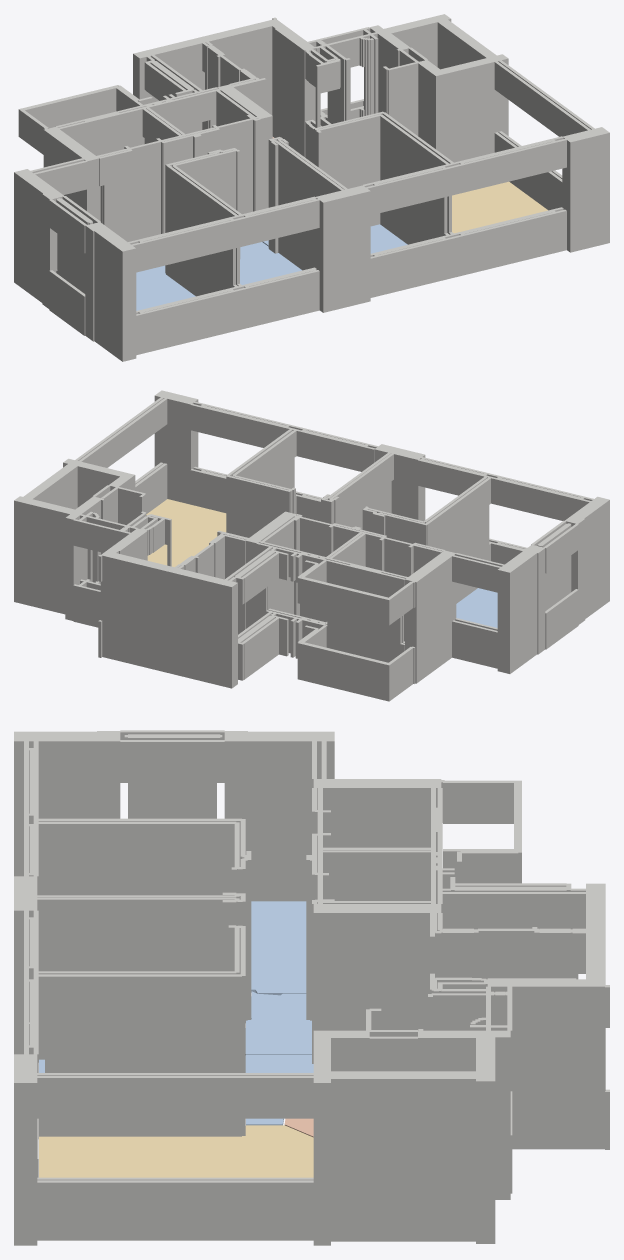
3 views of the same model, one above another, from view 1: azimuth 30°, elevation 25°; view 2: azimuth 150°, elevation 25°; view 3: azimuth 270°, elevation 25° (orthographic). The views are drawn at different scales.
Visible parts, largest first — view 1: walls, room:living:9, room:bedroom:7, room:bedroom:6, room:bedroom:8; view 2: walls, room:living:9, room:bedroom:6; view 3: walls, room:living:9, room:bedroom:6, room:bedroom:7, room:bedroom:8.
Boxes of the visible parts, x1,y1,x2,y2 form: walls: [14, 14, 609, 361]; room:living:9: [452, 181, 547, 233]; room:bedroom:7: [240, 242, 301, 284]; room:bedroom:6: [136, 265, 195, 310]; room:bedroom:8: [262, 224, 407, 253]; walls: [14, 390, 609, 701]; room:living:9: [146, 499, 226, 567]; room:bedroom:6: [456, 588, 497, 627]; walls: [14, 730, 609, 1245]; room:living:9: [39, 1125, 313, 1177]; room:bedroom:6: [251, 901, 306, 995]; room:bedroom:7: [245, 991, 311, 1054]; room:bedroom:8: [39, 1055, 313, 1125].
Size of the model in its own units: 13.01 by 2.8 by 9.29.
